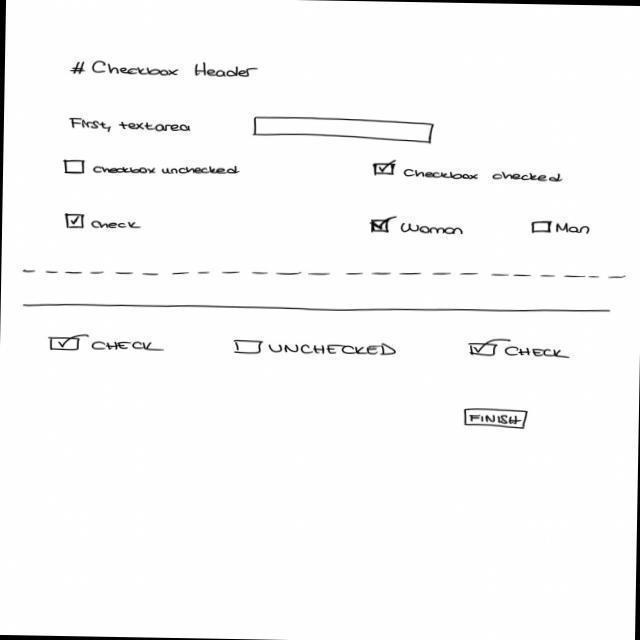button: (464, 406, 531, 431)
checkbox: (372, 158, 566, 184), (62, 158, 242, 179), (234, 339, 402, 359), (47, 334, 167, 355), (468, 337, 573, 361), (369, 216, 466, 237), (64, 212, 143, 231), (530, 220, 594, 238)
input: (253, 116, 435, 146)
label: (70, 59, 260, 82), (69, 117, 195, 136)
